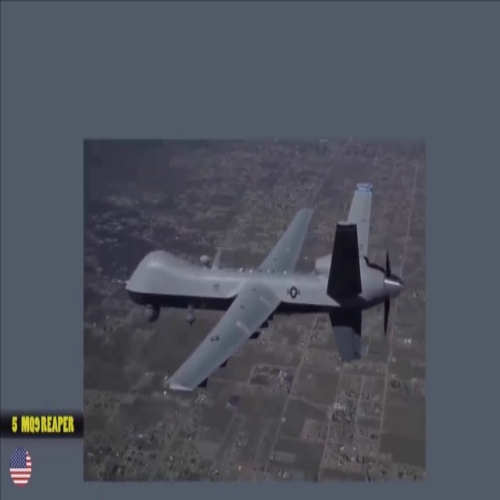uav: (124, 179, 404, 394)
